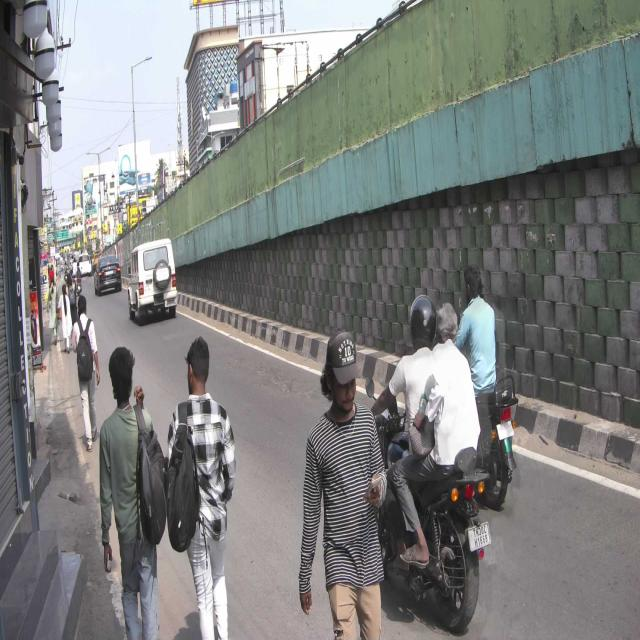double_rider: (369, 290, 485, 633)
